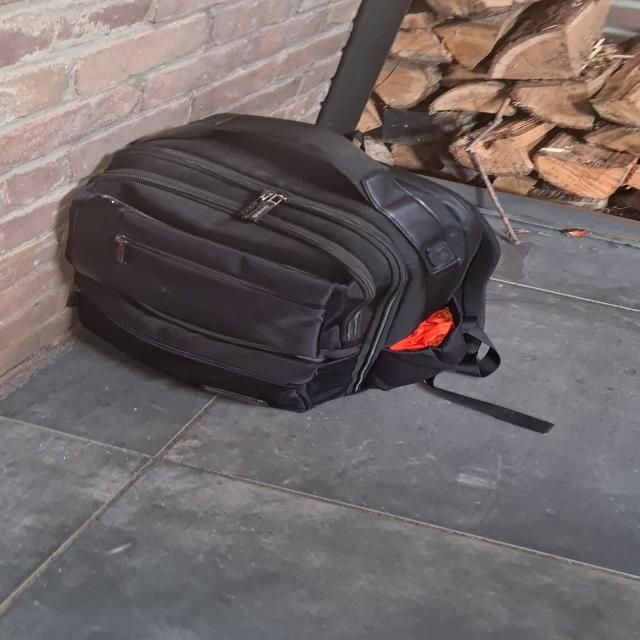backpack: (44, 98, 516, 416)
